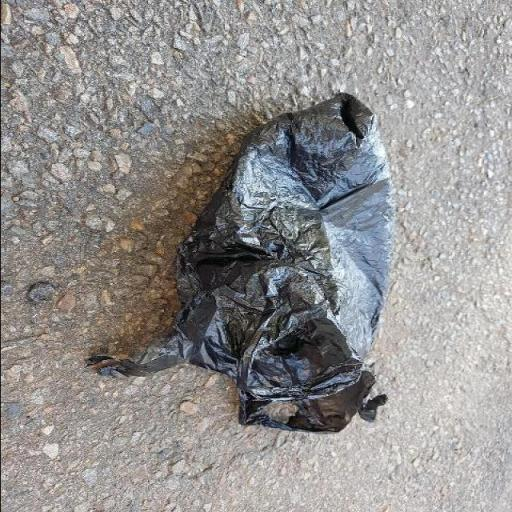plastic-bag: (80, 90, 402, 440)
